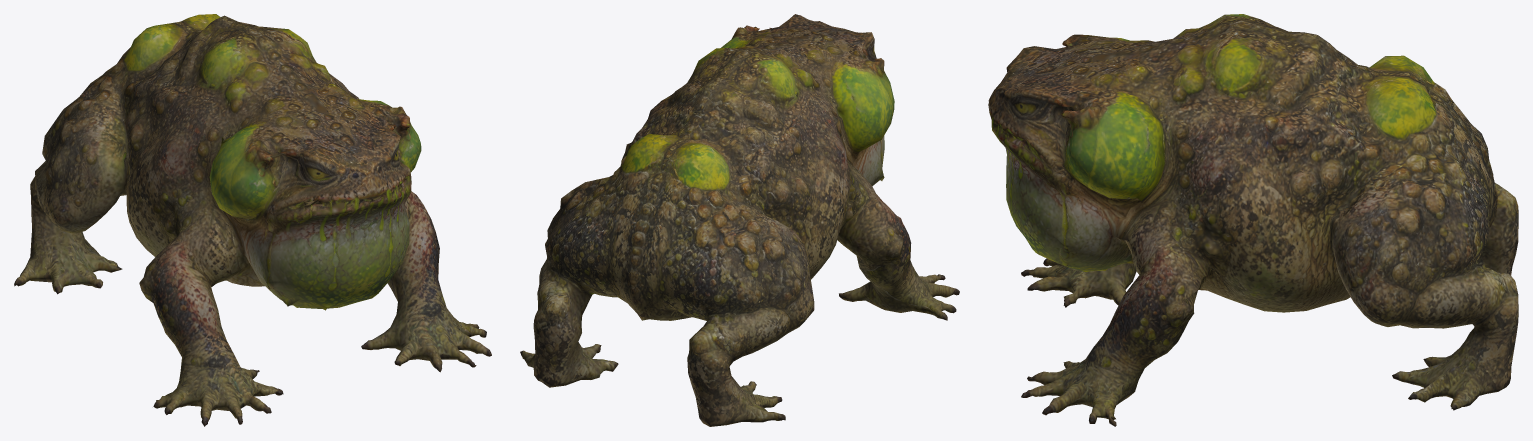
The model's file is Toad_Mutant.fbx.
3 renders of one model, left to right at view 1: azimuth 30°, elevation 25°; view 2: azimuth 150°, elevation 25°; view 3: azimuth 270°, elevation 25°, orthographic. The views are drawn at different scales.
Parts seen in each view (by area): view 1: Toad_Mutant; view 2: Toad_Mutant; view 3: Toad_Mutant.
Part boxes in pixels (bbox=[...]): Toad_Mutant: bbox=[14, 14, 491, 426]; Toad_Mutant: bbox=[520, 14, 959, 426]; Toad_Mutant: bbox=[988, 14, 1518, 426].
Size of the model in its own units: 0.7546 by 0.6515 by 0.9831.
Materials: 1 (1 with a texture image).
